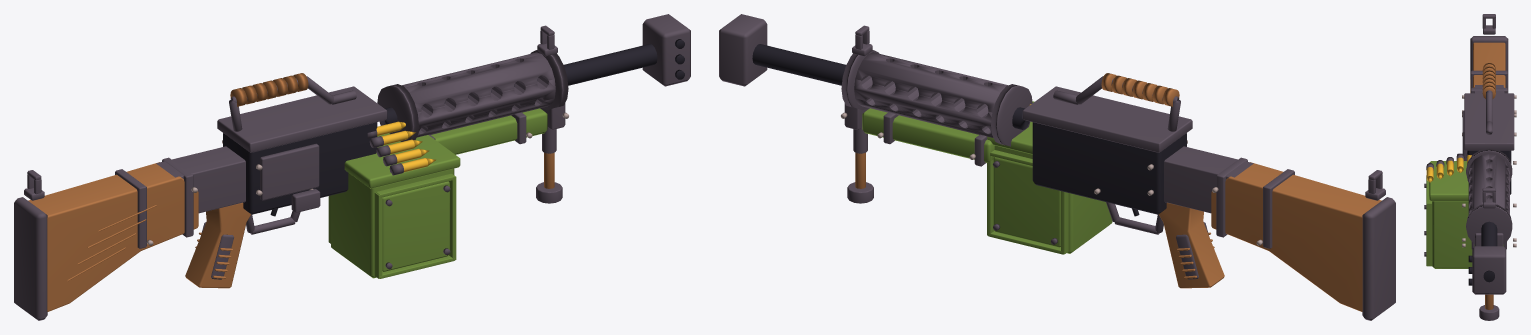
The model's file is wpn.machine-gun.glb.
3 renders of one model, left to right at view 1: azimuth 30°, elevation 25°; view 2: azimuth 150°, elevation 25°; view 3: azimuth 270°, elevation 25°, orthographic. The views are drawn at different scales.
Bounding box in the file's own units: 1.48 × 0.4081 × 0.2385.
